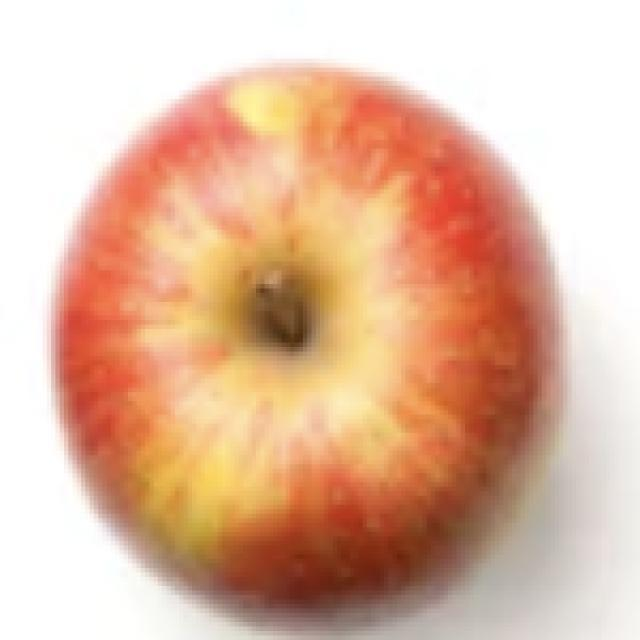Fresh Apple: (77, 73, 540, 620)
